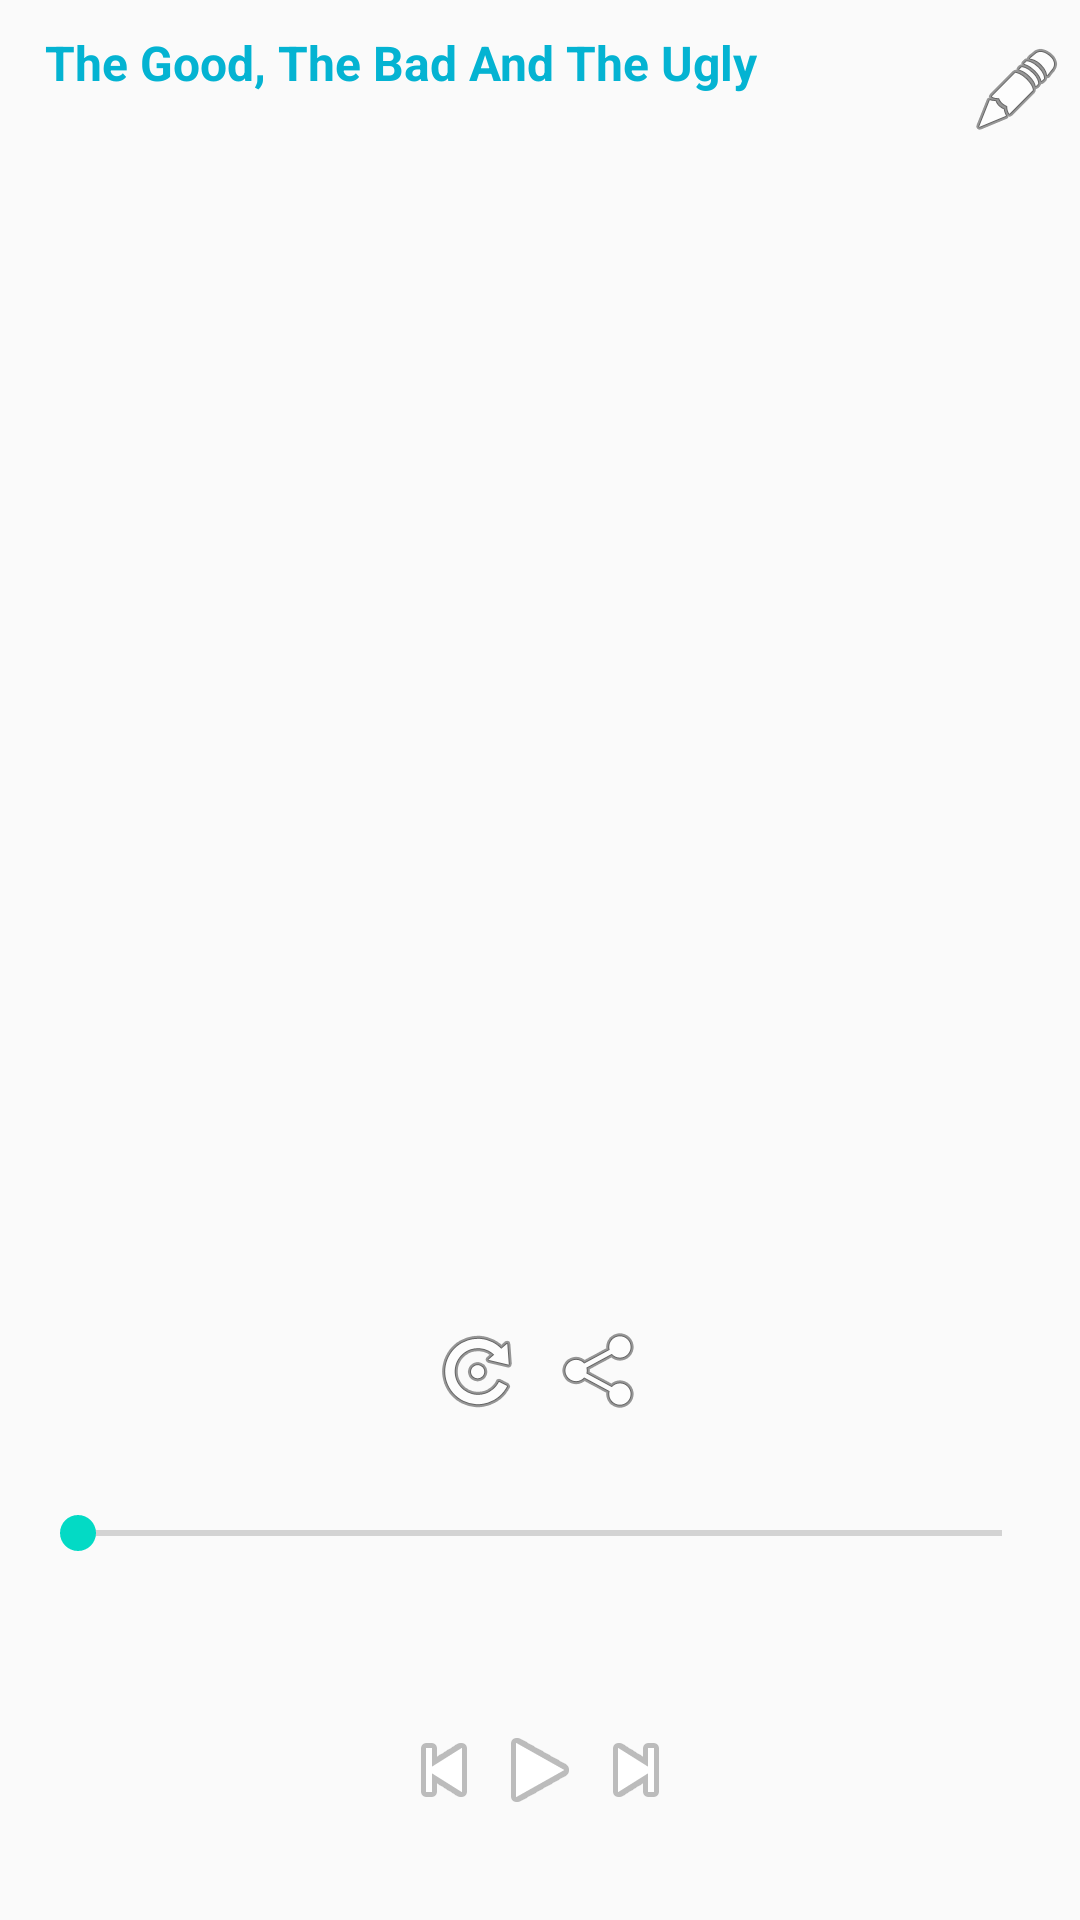

Icons on this 1080w x 1920h Android screen, each with the point to tap as [x,y]:
edit: [1016,89]
next: [636,1770]
play: [540,1770]
previous: [444,1770]
rotate: [477,1371]
share: [598,1370]
